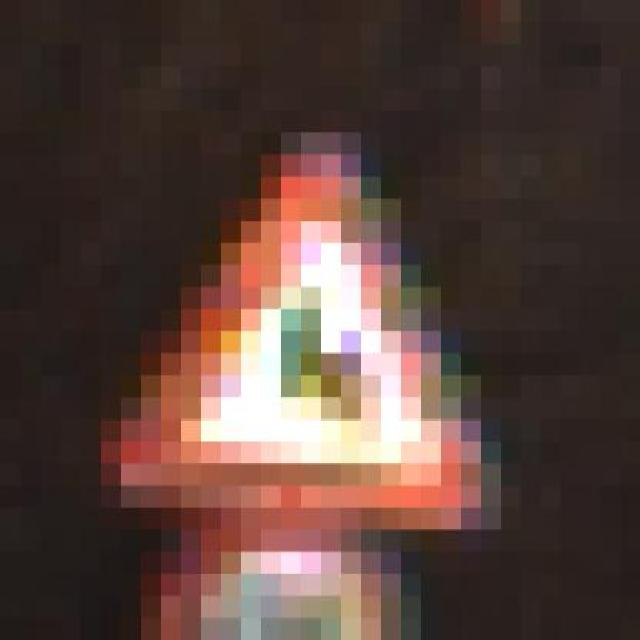Left Zig Zag Traffic: (80, 89, 520, 552)
